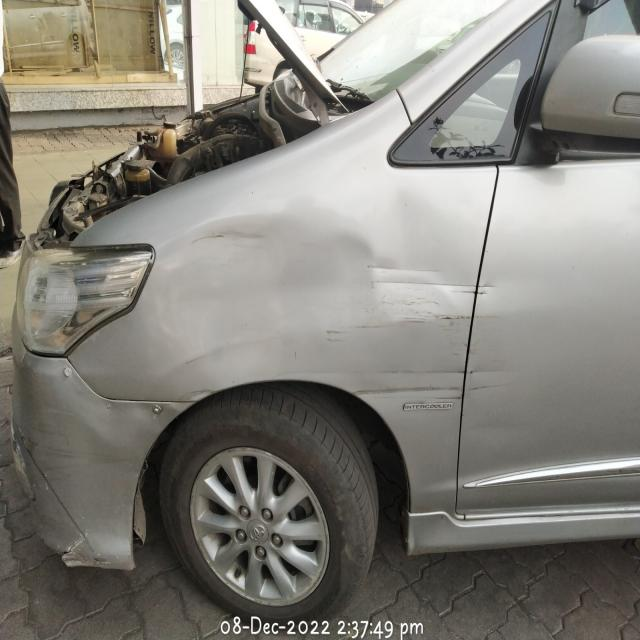damage: (334, 229, 490, 441), (179, 211, 279, 259), (6, 411, 54, 497), (50, 516, 92, 574)
